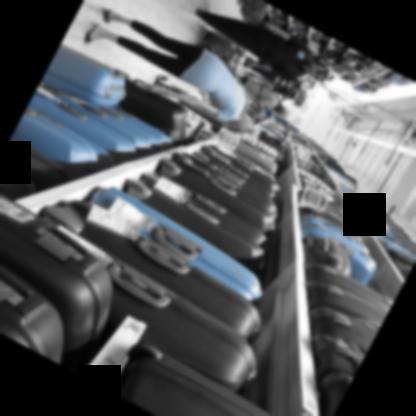handbag: (246, 92, 263, 106)
suitcase: (41, 200, 259, 341), (100, 258, 257, 393), (85, 186, 261, 306), (0, 193, 110, 367), (126, 178, 266, 277), (111, 343, 267, 416), (27, 86, 135, 166), (0, 261, 63, 363), (15, 106, 100, 174), (40, 43, 125, 106), (310, 332, 369, 383), (304, 233, 352, 277), (316, 367, 353, 416)
